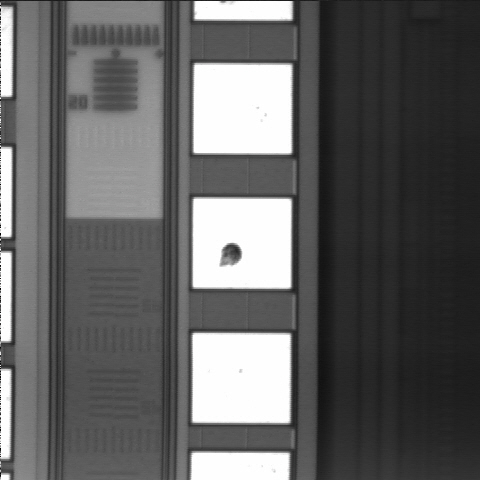pad: (193, 198, 291, 289), (194, 64, 292, 154), (192, 333, 290, 423)
